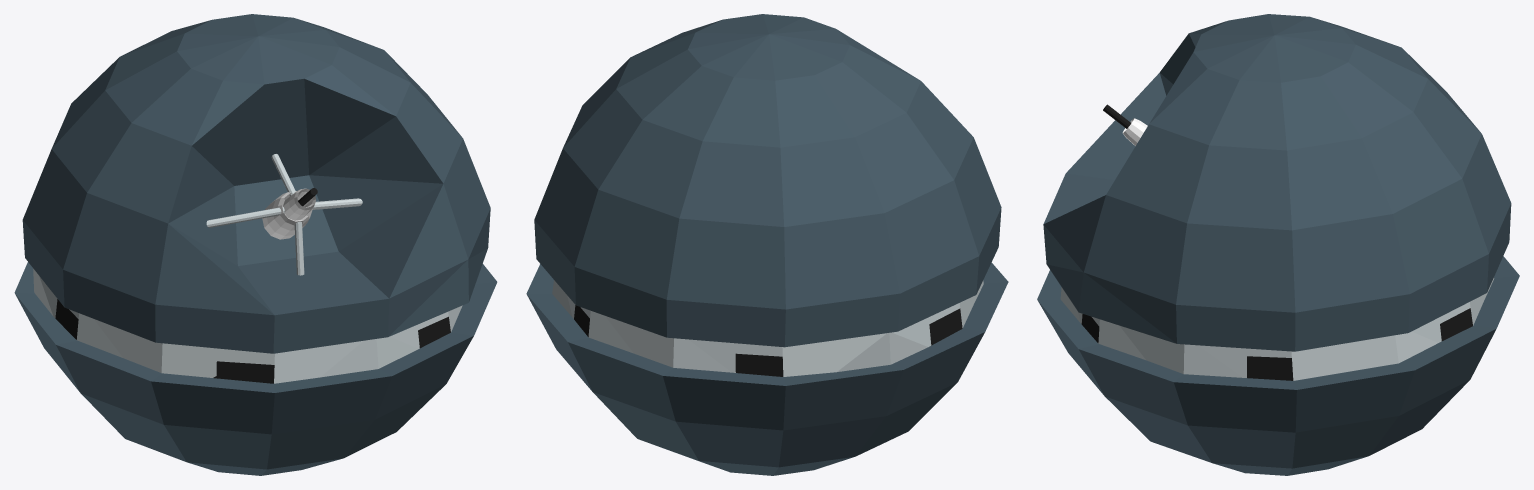
The model's file is DeathStar.glb.
3 renders of one model, left to right at view 1: azimuth 30°, elevation 25°; view 2: azimuth 150°, elevation 25°; view 3: azimuth 270°, elevation 25°, orthographic.
Parts seen in each view (by area): view 1: group799463457, group1208480485, group333298558, group461147207, group803718959; view 2: group799463457, group1208480485, group333298558; view 3: group799463457, group1208480485, group333298558, group461147207.
Part boxes in pixels (bbox=[...]): group799463457: bbox=[22, 14, 490, 353]; group1208480485: bbox=[14, 262, 497, 475]; group333298558: bbox=[33, 268, 462, 383]; group461147207: bbox=[262, 188, 317, 239]; group803718959: bbox=[206, 207, 284, 227]; group799463457: bbox=[534, 14, 1001, 347]; group1208480485: bbox=[526, 262, 1008, 475]; group333298558: bbox=[552, 280, 983, 376]; group799463457: bbox=[1043, 14, 1511, 351]; group1208480485: bbox=[1037, 256, 1519, 475]; group333298558: bbox=[1060, 278, 1494, 380]; group461147207: bbox=[1103, 104, 1147, 145].
Size of the model in its own units: 0.2841 by 0.272 by 0.2841.
